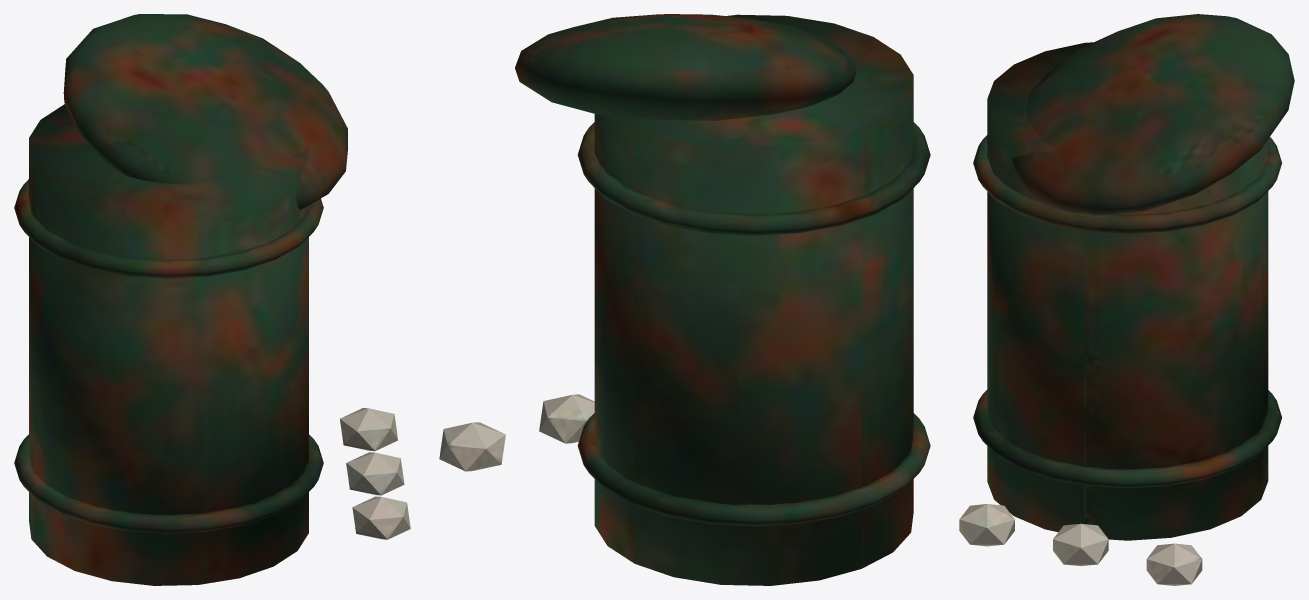
File: trash.glb
The picture shows the model from 3 angles, left to right: view 1: azimuth 30°, elevation 25°; view 2: azimuth 150°, elevation 25°; view 3: azimuth 270°, elevation 25°; orthographic projection. The views are drawn at different scales.
Parts seen in each view (by area): view 1: Main; view 2: Main; view 3: Main.
Part boxes in pixels (x1=…): Main: x1=14, y1=14, x2=410, y2=585; Main: x1=439, y1=14, x2=930, y2=585; Main: x1=959, y1=14, x2=1294, y2=585.
Size of the model in its own units: 0.9426 by 1.07 by 0.7162.
Materials: 1 (1 with a texture image).
